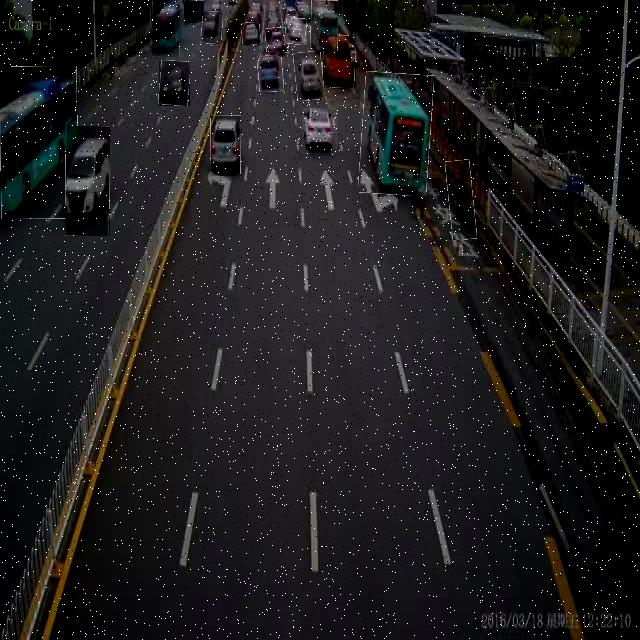Bus: (0, 66, 77, 219), (360, 72, 432, 195), (323, 35, 356, 88), (152, 1, 180, 57), (311, 0, 338, 51), (184, 0, 204, 21)
Car: (66, 126, 110, 236), (211, 115, 241, 176), (302, 109, 338, 154), (159, 61, 190, 106), (294, 52, 323, 100), (258, 56, 284, 92), (202, 12, 222, 44), (285, 18, 307, 44), (266, 28, 288, 53), (241, 23, 261, 45)
Motorcycle: (447, 159, 475, 240)
